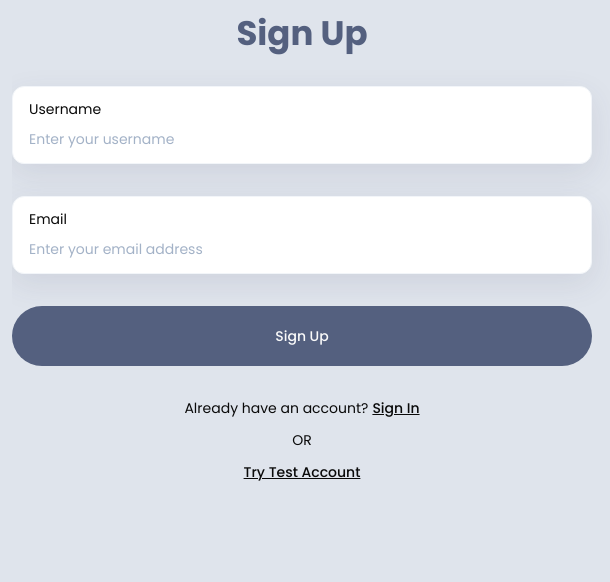
Test: AuthForm component › Error handling › displays error message when account already exists
Type "existing@example.com" into the field labelled "Email" at (302, 249), box [29, 229, 575, 269]
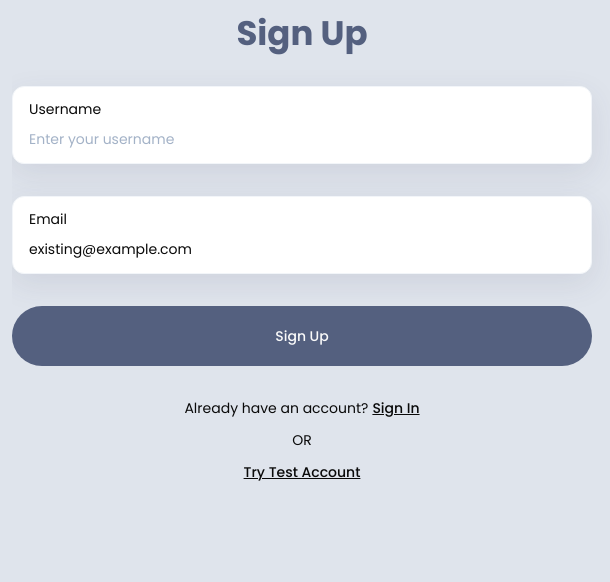
Type "existinguser" into the field labelled "Username" at (302, 139), box [29, 119, 575, 159]
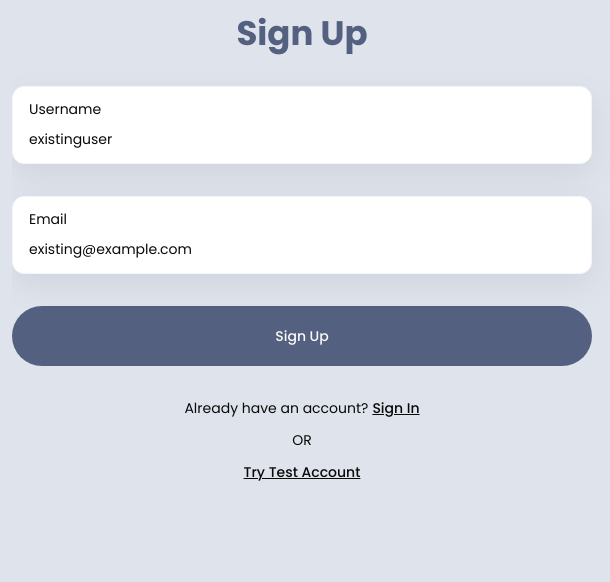
Click the button with aria-label "submit form" at (302, 336), box [12, 306, 592, 366]
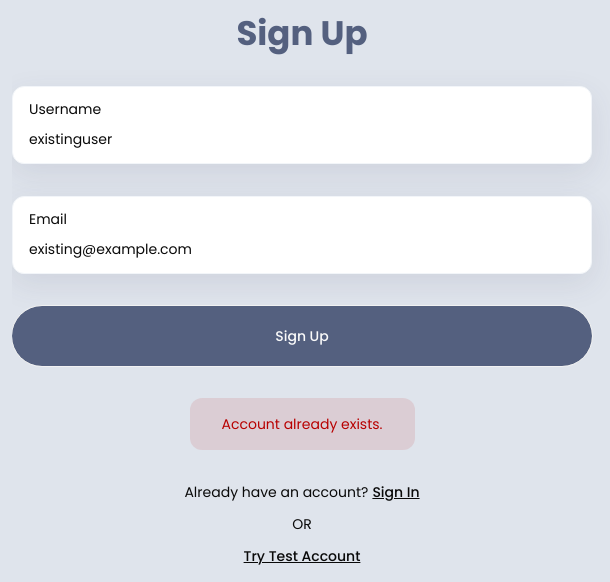
Expected: the message shows "Account already exists", [222, 414, 382, 434]
